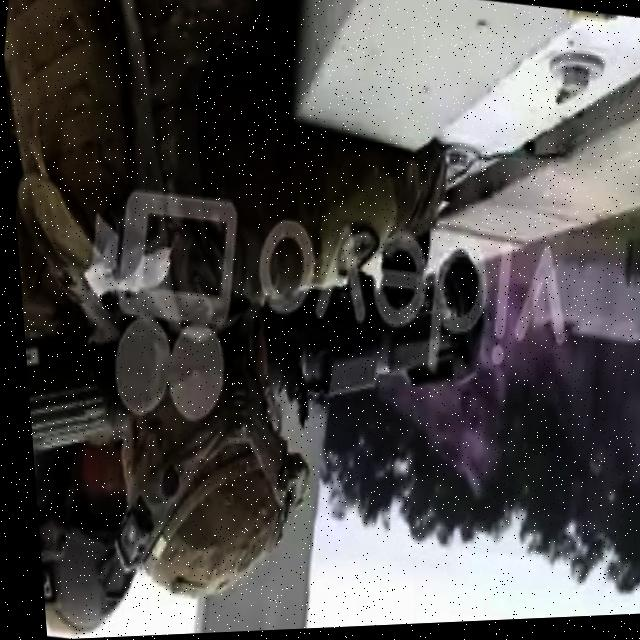rocket: (12, 197, 502, 538)
